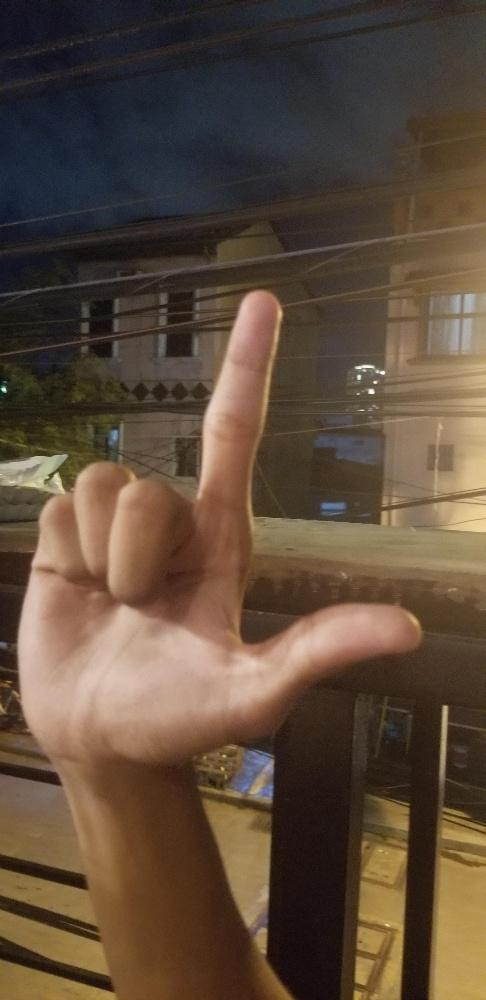l: (14, 288, 421, 758)
